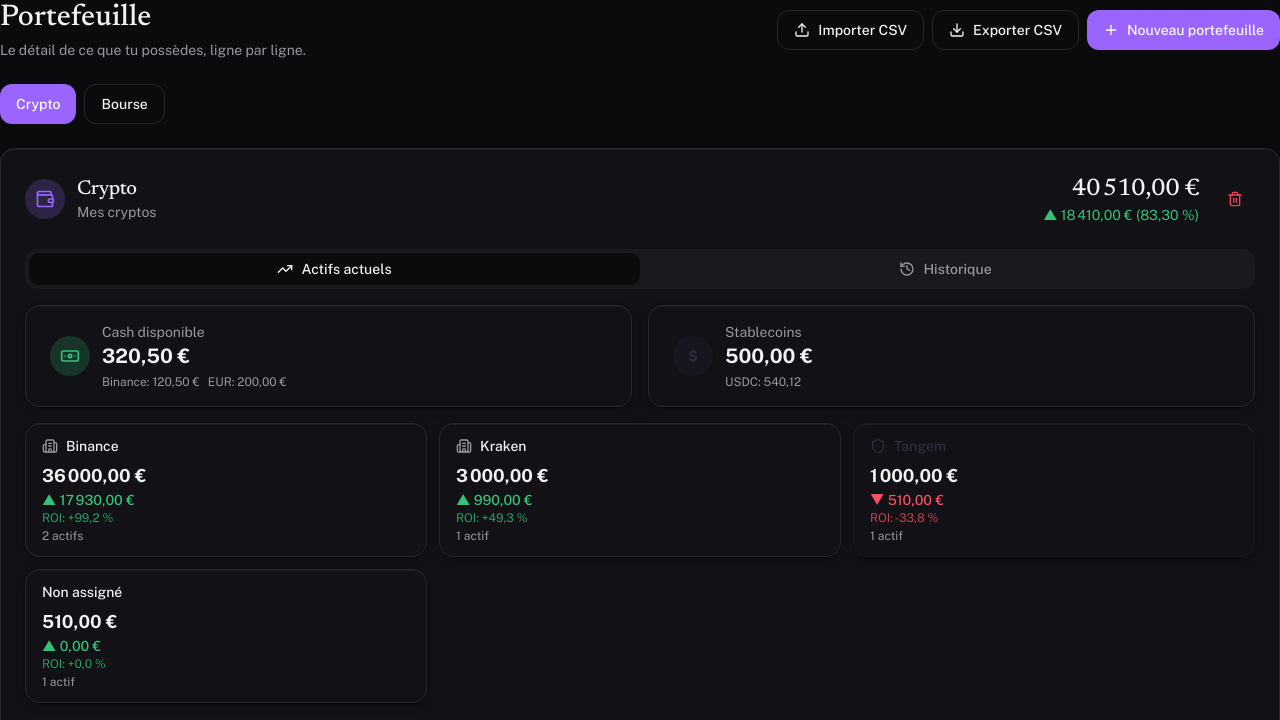
Test case: portefeuille — défauts corrigés › ne relit pas le portefeuille supprimé
Click the button titled "Supprimer le portefeuille". click: x=1235, y=199
box: [1215,179,1255,219]
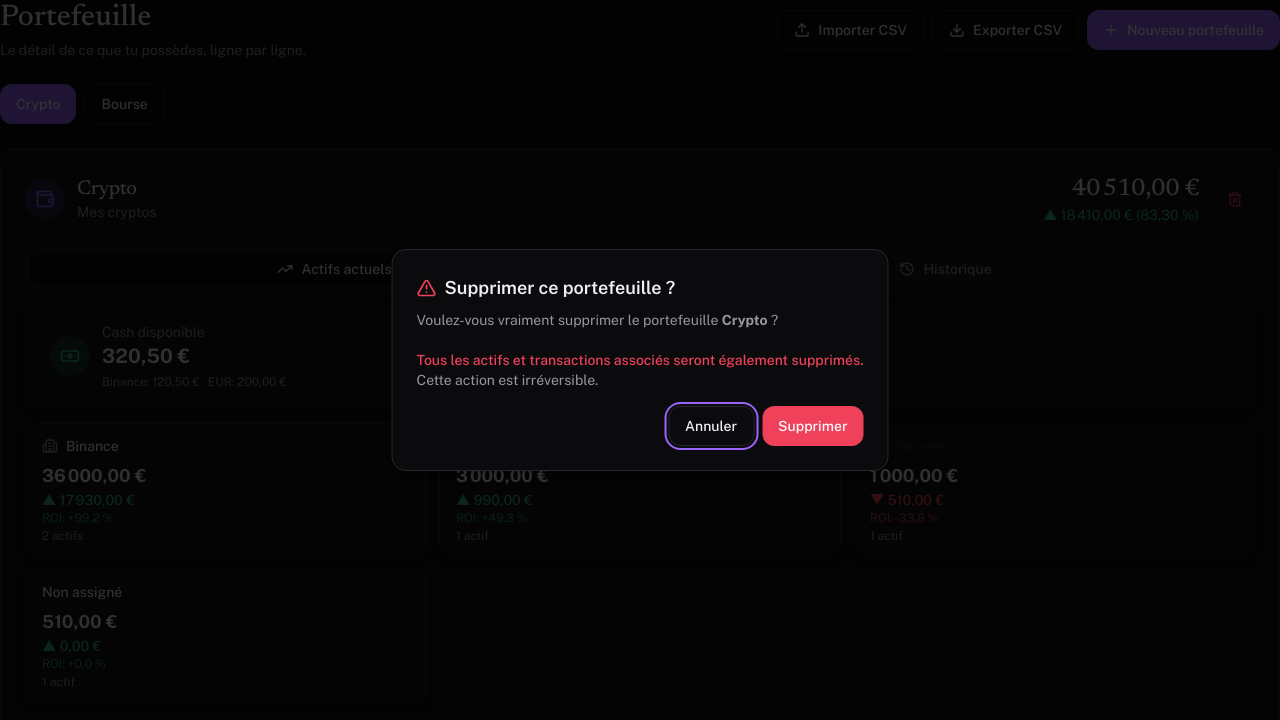
Click the button "Supprimer". click: x=813, y=426
box: [762,406,864,446]
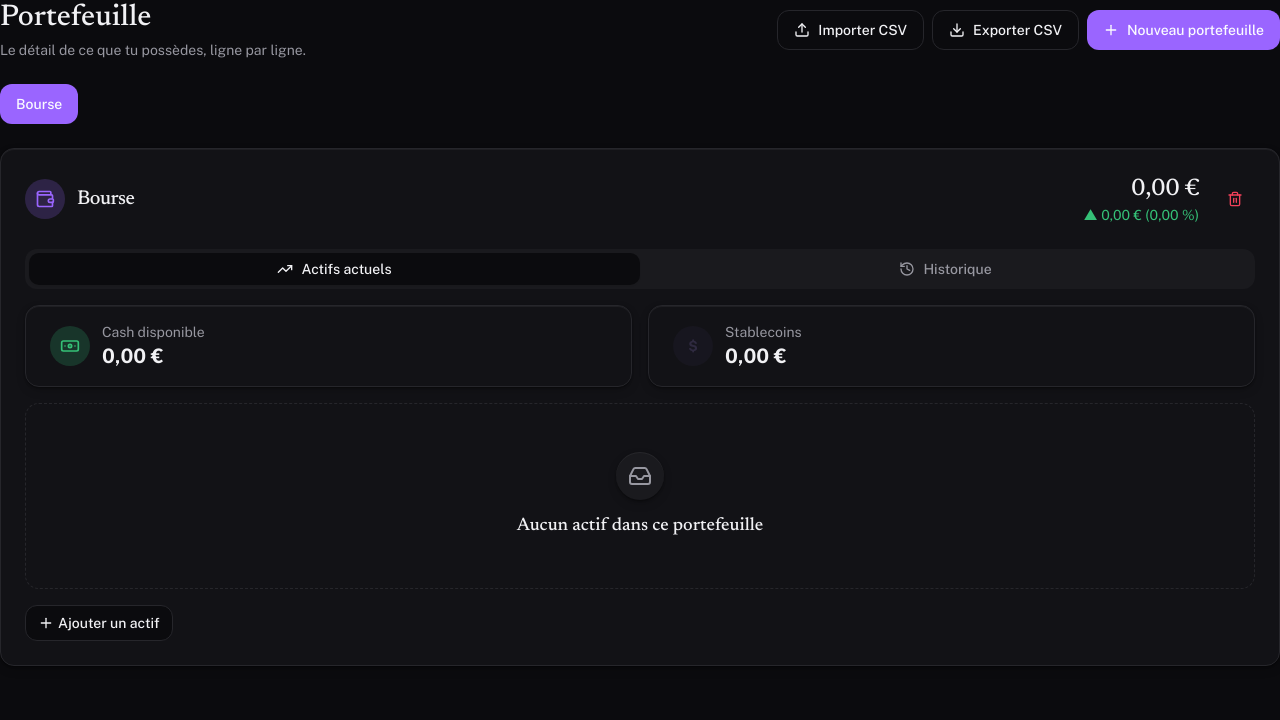
Expected: the text "Aucun actif dans ce portefeuille" is shown, [517,512,763,540]
